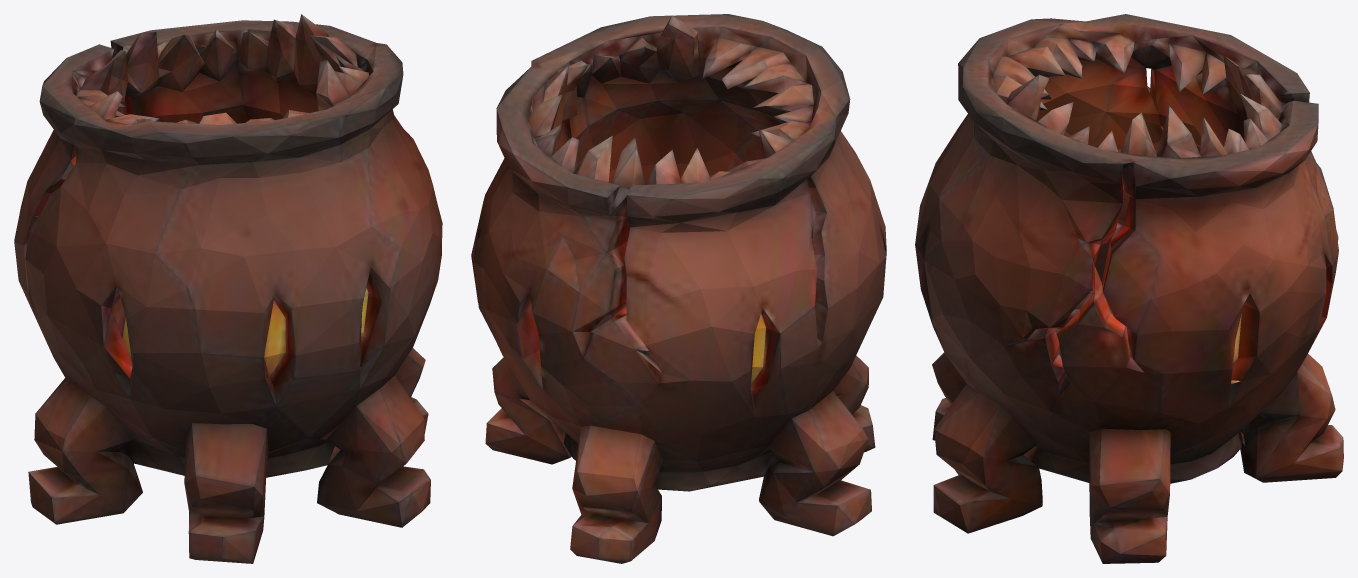
The model's file is foe_urnMimic.glb.
The picture shows the model from 3 angles, left to right: view 1: azimuth 30°, elevation 25°; view 2: azimuth 150°, elevation 25°; view 3: azimuth 270°, elevation 25°; orthographic projection. The views are drawn at different scales.
Parts seen in each view (by area): view 1: tripo_node_c3ee38e2-0671-4a0e-9906-2dd2f85d6cc5.001; view 2: tripo_node_c3ee38e2-0671-4a0e-9906-2dd2f85d6cc5.001; view 3: tripo_node_c3ee38e2-0671-4a0e-9906-2dd2f85d6cc5.001.
Part boxes in pixels (box(x1,y1,x2,y2)): tripo_node_c3ee38e2-0671-4a0e-9906-2dd2f85d6cc5.001: box(14, 14, 442, 563); tripo_node_c3ee38e2-0671-4a0e-9906-2dd2f85d6cc5.001: box(471, 14, 886, 563); tripo_node_c3ee38e2-0671-4a0e-9906-2dd2f85d6cc5.001: box(915, 14, 1343, 563).
Size of the model in its own units: 0.9183 by 1 by 0.9085.
1 material, 1 textured.
